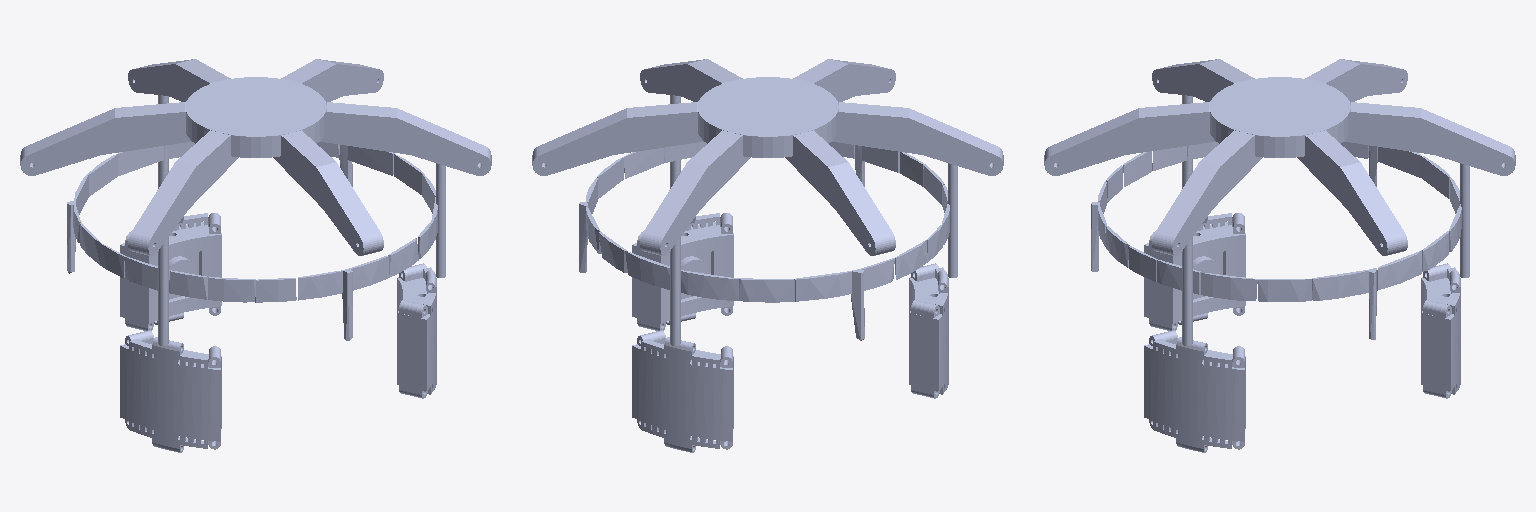
URDF robot description (SoftGrasperAssembly_SimplifiedTilt):
<?xml version="1.0" encoding="utf-8"?>
<!-- This URDF was automatically created by SolidWorks to URDF Exporter! Originally created by [author] ([email redacted]) 
     Commit Version: 1.6.0-4-g7f85cfe  Build Version: 1.6.7995.38578
     For more information, please see http://wiki.ros.org/sw_urdf_exporter -->
<robot
  name="SoftGrasperAssembly_SimplifiedTilt">
  <link
    name="base_link">
    <inertial>
      <origin
        xyz="2.4517E-17 -0.013906 4.1343E-16"
        rpy="0 0 0" />
      <mass
        value="0.092827" />
      <inertia
        ixx="0.00014637"
        ixy="1.0171E-18"
        ixz="-4.8057E-19"
        iyy="0.00027935"
        iyz="3.4898E-18"
        izz="0.00014637" />
    </inertial>
    <visual>
      <origin
        xyz="0 0 0"
        rpy="0 0 0" />
      <geometry>
        <mesh
          filename="package://SoftGrasperAssembly_SimplifiedTilt/meshes/base_link.STL" />
      </geometry>
      <material
        name="">
        <color
          rgba="0.79216 0.81961 0.93333 1" />
      </material>
    </visual>
    <collision>
      <origin
        xyz="0 0 0"
        rpy="0 0 0" />
      <geometry>
        <mesh
          filename="package://SoftGrasperAssembly_SimplifiedTilt/meshes/base_link.STL" />
      </geometry>
    </collision>
  </link>
  <link
    name="CylinderCons">
    <inertial>
      <origin
        xyz="-3.2048E-15 -0.02443 1.1831E-15"
        rpy="0 0 0" />
      <mass
        value="0.0026009" />
      <inertia
        ixx="7.883E-06"
        ixy="-2.8867E-21"
        ixz="-7.2813E-21"
        iyy="1.5503E-05"
        iyz="1.951E-20"
        izz="7.883E-06" />
    </inertial>
    <visual>
      <origin
        xyz="0 0 0"
        rpy="0 0 0" />
      <geometry>
        <mesh
          filename="package://SoftGrasperAssembly_SimplifiedTilt/meshes/CylinderCons.obj" />
      </geometry>
      <material
        name="">
        <color
          rgba="0.79216 0.81961 0.93333 1" />
      </material>
    </visual>
    <collision>
      <origin
        xyz="0 0 0"
        rpy="0 0 0" />
      <geometry>
        <mesh
          filename="package://SoftGrasperAssembly_SimplifiedTilt/meshes/CylinderCons.obj" />
      </geometry>
    </collision>
  </link>
  <joint
    name="BCC"
    type="prismatic">
    <origin
      xyz="0 0 -0.077479"
      rpy="1.5708 0 0" />
    <parent
      link="base_link" />
    <child
      link="CylinderCons" />
    <axis
      xyz="0 1 0" />
    <limit
      lower="-2.5"
      upper="2.5"
      effort="0"
      velocity="0" />
    <dynamics
      damping="0.1"
      friction="0.1" />
  </joint>
  <link
    name="SoftSupport1">
    <inertial>
      <origin
        xyz="-3.4902E-15 -6.088E-05 -0.0096819"
        rpy="0 0 0" />
      <mass
        value="0.020019" />
      <inertia
        ixx="2.8922E-06"
        ixy="2.1911E-21"
        ixz="1.5668E-20"
        iyy="3.6958E-06"
        iyz="-8.3292E-10"
        izz="5.9269E-06" />
    </inertial>
    <visual>
      <origin
        xyz="0 0 0"
        rpy="0 0 0" />
      <geometry>
        <mesh
          filename="package://SoftGrasperAssembly_SimplifiedTilt/meshes/SoftSupport1.STL" />
      </geometry>
      <material
        name="">
        <color
          rgba="0.79216 0.81961 0.93333 1" />
      </material>
    </visual>
    <collision>
      <origin
        xyz="0 0 0"
        rpy="0 0 0" />
      <geometry>
        <mesh
          filename="package://SoftGrasperAssembly_SimplifiedTilt/meshes/SoftSupport1.STL" />
      </geometry>
    </collision>
  </link>
  <joint
    name="LinearJaw1"
    type="prismatic">
    <origin
      xyz="0 -0.027244 -0.059827"
      rpy="0 0 0" />
    <parent
      link="CylinderCons" />
    <child
      link="SoftSupport1" />
    <axis
      xyz="0 0 1" />
    <limit
      lower="0"
      upper="1"
      effort="0"
      velocity="0" />
    <dynamics
      damping="0.1"
      friction="0.1" />
  </joint>
  <link
    name="SoftSupport2">
    <inertial>
      <origin
        xyz="-5.0259E-09 -6.0879E-05 -0.0054921"
        rpy="0 0 0" />
      <mass
        value="0.020019" />
      <inertia
        ixx="2.8922E-06"
        ixy="2.1735E-13"
        ixz="2.0391E-13"
        iyy="3.6958E-06"
        iyz="-8.3305E-10"
        izz="5.9269E-06" />
    </inertial>
    <visual>
      <origin
        xyz="0 0 0"
        rpy="0 0 0" />
      <geometry>
        <mesh
          filename="package://SoftGrasperAssembly_SimplifiedTilt/meshes/SoftSupport2.STL" />
      </geometry>
      <material
        name="">
        <color
          rgba="0.79216 0.81961 0.93333 1" />
      </material>
    </visual>
    <collision>
      <origin
        xyz="0 0 0"
        rpy="0 0 0" />
      <geometry>
        <mesh
          filename="package://SoftGrasperAssembly_SimplifiedTilt/meshes/SoftSupport2.STL" />
      </geometry>
    </collision>
  </link>
  <joint
    name="LinearJaw2"
    type="prismatic">
    <origin
      xyz="-0.05544 -0.027244 0.032008"
      rpy="3.1416 1.0472 3.1416" />
    <parent
      link="CylinderCons" />
    <child
      link="SoftSupport2" />
    <axis
      xyz="0 0 1" />
    <limit
      lower="0"
      upper="1"
      effort="0"
      velocity="0" />
    <dynamics
      damping="0.1"
      friction="0.1" />
  </joint>
  <link
    name="SoftSupport3">
    <inertial>
      <origin
        xyz="5.0259E-09 -6.0879E-05 -0.031111"
        rpy="0 0 0" />
      <mass
        value="0.020019" />
      <inertia
        ixx="2.8922E-06"
        ixy="-2.1735E-13"
        ixz="-2.0391E-13"
        iyy="3.6958E-06"
        iyz="-8.3305E-10"
        izz="5.9269E-06" />
    </inertial>
    <visual>
      <origin
        xyz="0 0 0"
        rpy="0 0 0" />
      <geometry>
        <mesh
          filename="package://SoftGrasperAssembly_SimplifiedTilt/meshes/SoftSupport3.STL" />
      </geometry>
      <material
        name="">
        <color
          rgba="0.79216 0.81961 0.93333 1" />
      </material>
    </visual>
    <collision>
      <origin
        xyz="0 0 0"
        rpy="0 0 0" />
      <geometry>
        <mesh
          filename="package://SoftGrasperAssembly_SimplifiedTilt/meshes/SoftSupport3.STL" />
      </geometry>
    </collision>
  </link>
  <joint
    name="LinearJaw3"
    type="prismatic">
    <origin
      xyz="0.033253 -0.027244 0.019199"
      rpy="3.1416 -1.0472 3.1416" />
    <parent
      link="CylinderCons" />
    <child
      link="SoftSupport3" />
    <axis
      xyz="0 0 1" />
    <limit
      lower="0"
      upper="1"
      effort="0"
      velocity="0" />
    <dynamics
      damping="0.1"
      friction="0.1" />
  </joint>
</robot>

--- What the picture shows (computed from the rendered views, not written in the file) ---
The picture shows the robot from 3 angles, left to right: view 1: azimuth 30°, elevation 25°; view 2: azimuth 150°, elevation 25°; view 3: azimuth 270°, elevation 25°; orthographic projection.
Model SoftGrasperAssembly_SimplifiedTilt with 5 links and 4 joints (4 prismatic), rooted at base_link, posed all joints at 0.
Visible links, largest first — view 1: base_link, CylinderCons, SoftSupport2, SoftSupport1, SoftSupport3; view 2: base_link, CylinderCons, SoftSupport1, SoftSupport3, SoftSupport2; view 3: base_link, CylinderCons, SoftSupport3, SoftSupport2, SoftSupport1.
Link boxes in pixels (box(x1,y1,x2,y2)): base_link: box(20, 59, 491, 345); CylinderCons: box(67, 142, 437, 340); SoftSupport2: box(120, 330, 221, 452); SoftSupport1: box(120, 213, 221, 330); SoftSupport3: box(397, 263, 436, 398); base_link: box(532, 59, 1003, 345); CylinderCons: box(579, 142, 949, 340); SoftSupport1: box(632, 330, 733, 452); SoftSupport3: box(632, 213, 733, 330); SoftSupport2: box(909, 263, 948, 398); base_link: box(1044, 59, 1515, 345); CylinderCons: box(1091, 142, 1461, 339); SoftSupport3: box(1144, 330, 1245, 452); SoftSupport2: box(1144, 213, 1245, 330); SoftSupport1: box(1421, 263, 1460, 398).
Bounding box of the posed robot: 0.1777 × 0.1995 × 0.1302 m (x, y, z).
5 mesh visuals loaded from 5 distinct referenced files (4 binary STL, 1 OBJ).
